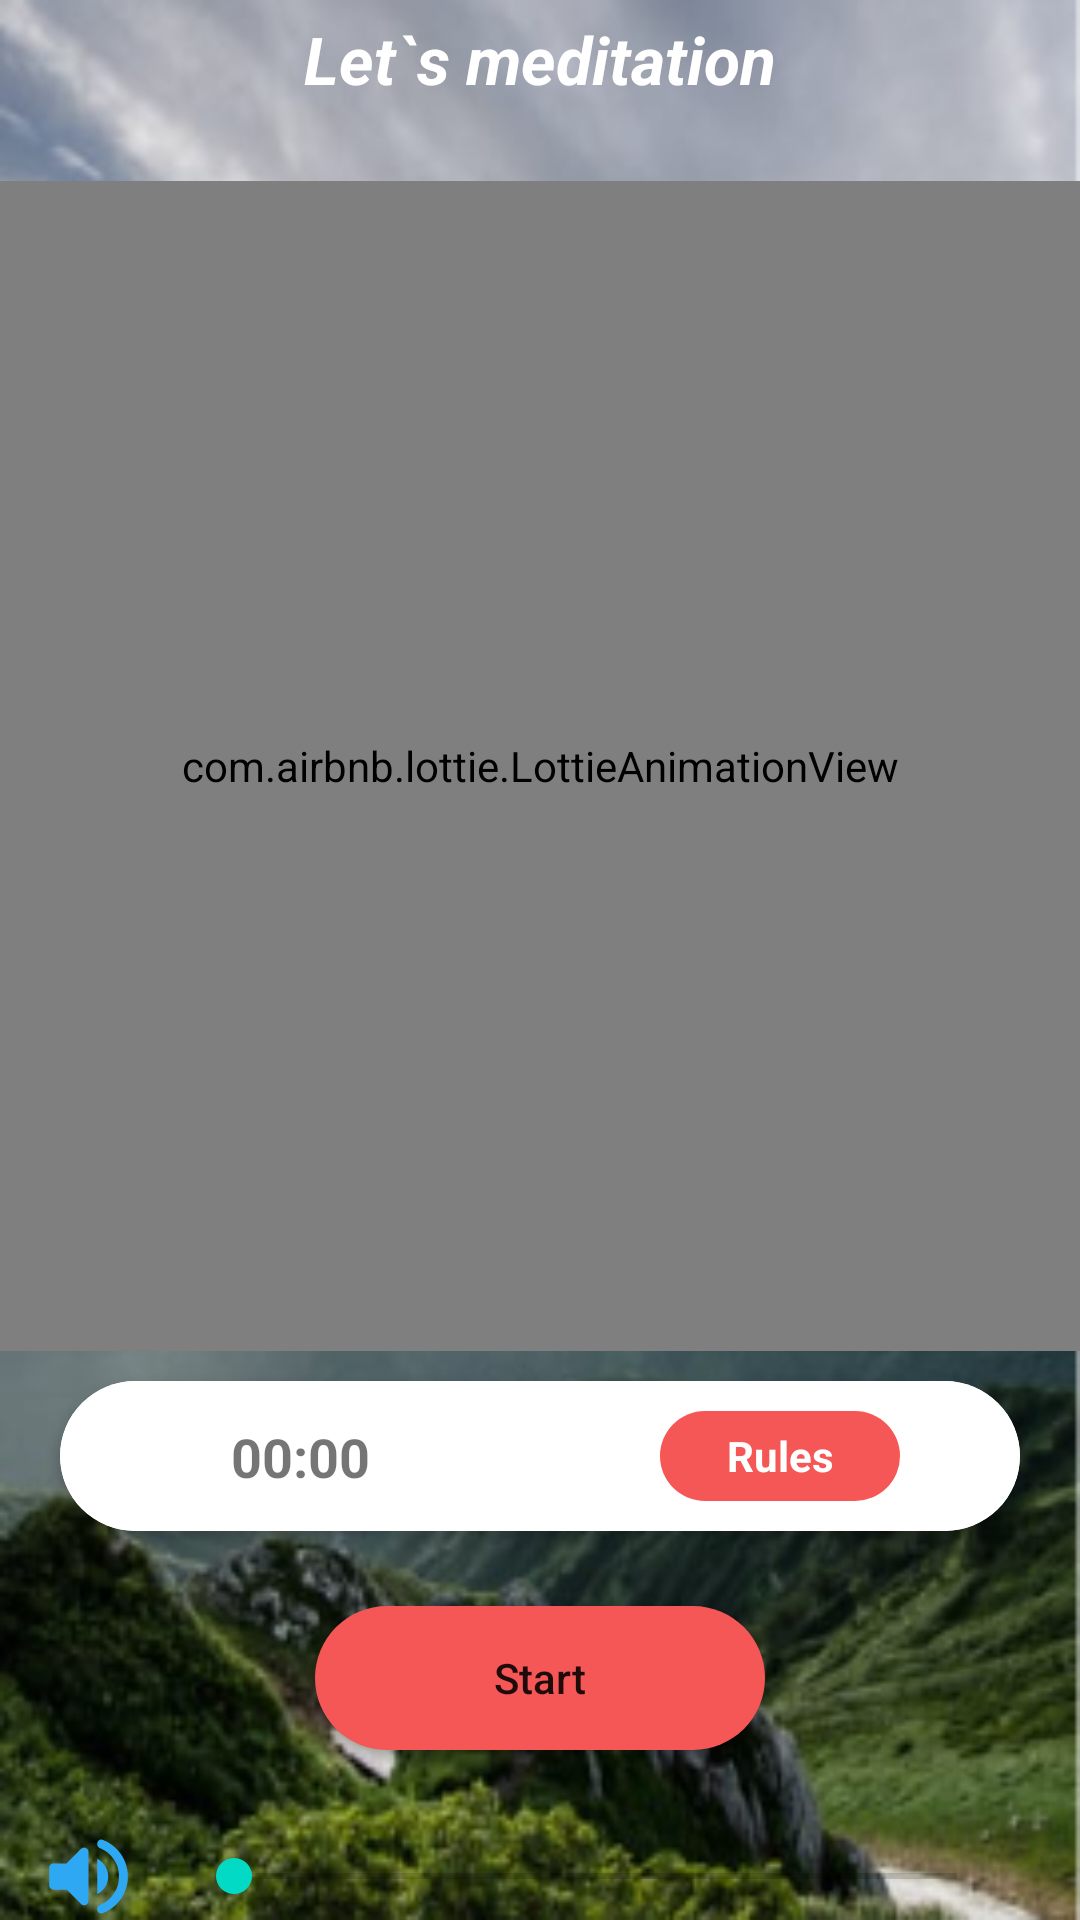

Locate icon controls on the screen. Image size 1080px×1920px, boxes as (x1, y1, x2, y2).
volume up: (36, 1824, 141, 1920)
